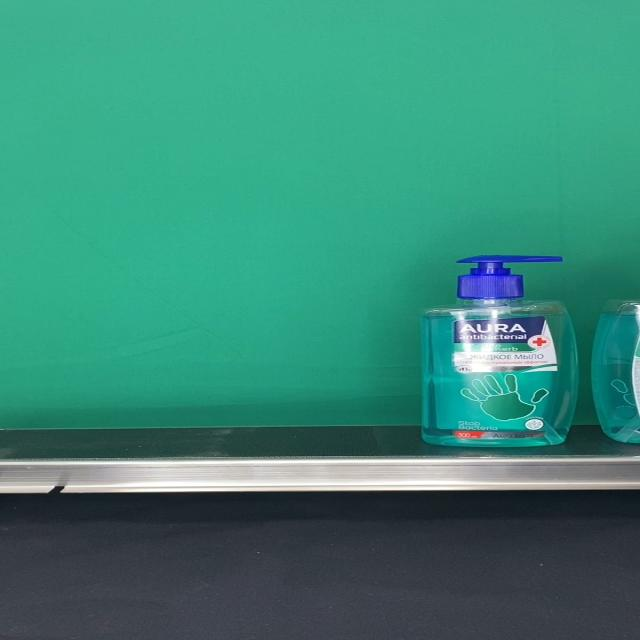Bottle: (420, 256, 580, 447)
Cap: (455, 256, 564, 300)
